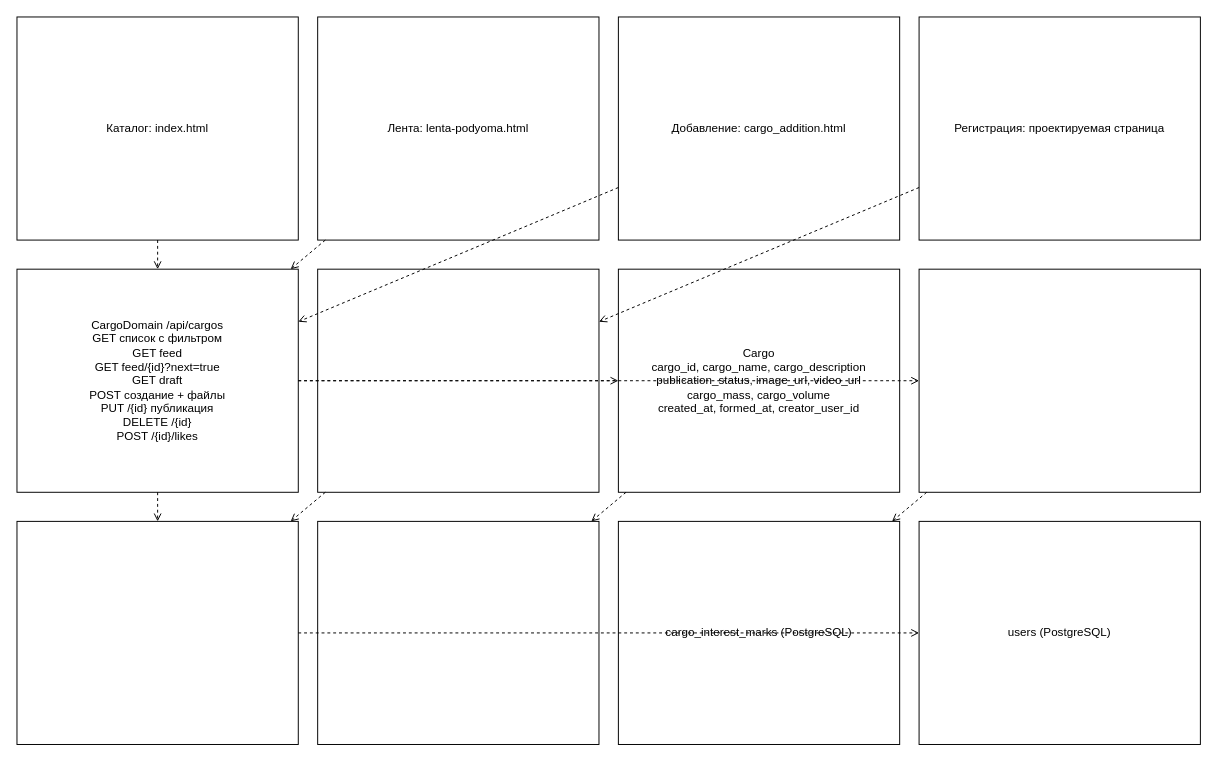
The diagram is 1217 pixels wide and 761 high, and some of its shapes have lost their labels. The shapes that lost their labels are listed below. From the top down, each one's centre as x and y in pixels, then its label:
At point (458, 380): "UserDomain /api POST users POST authentication POST deauthentication".
At point (1059, 380): "Like mark_id, user_id, cargo_id".
At point (157, 632): "User user_id, user_login, user_name".
At point (458, 632): "cargos (PostgreSQL)".
